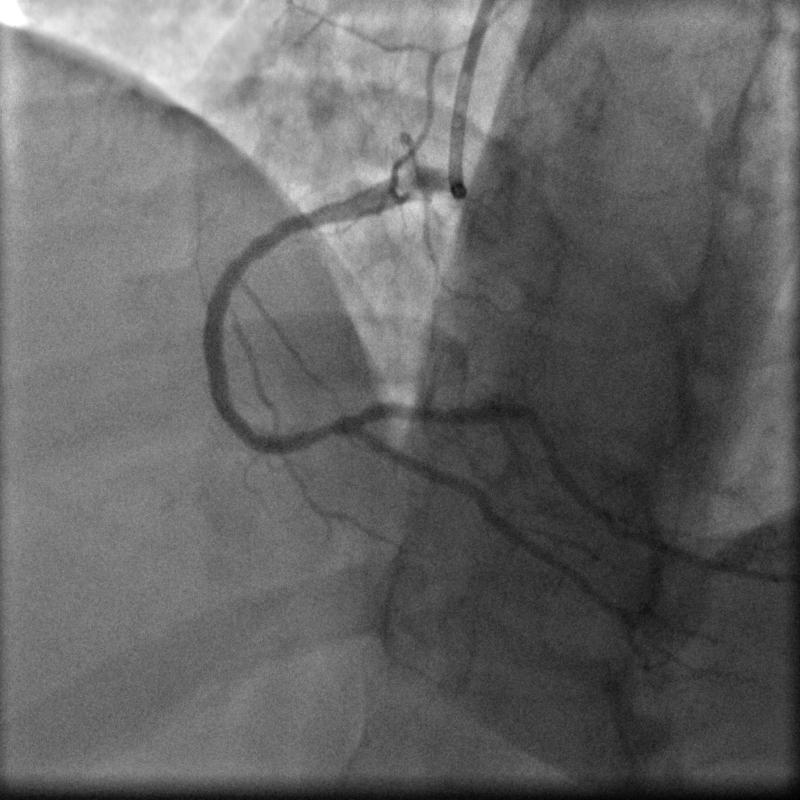Stenosis: (305, 412, 347, 442)
